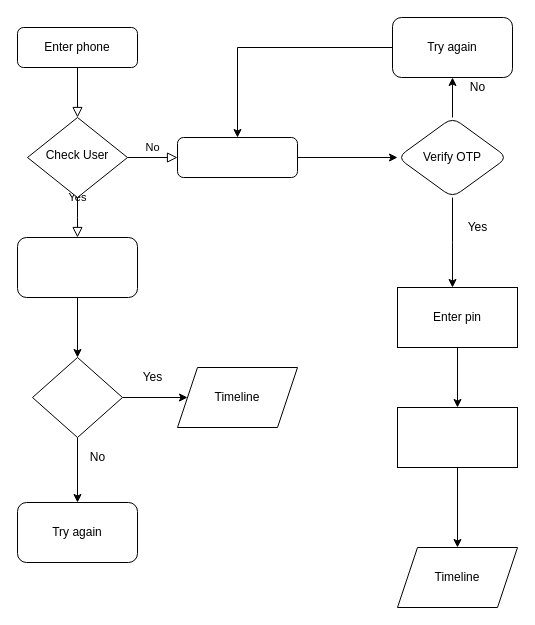
Image size: 535x625. Some labels were removed from this diagram. The centre of each missing label's shape, as x and y in pixels:
"Change User" belongs at point 457,437.
"Enter password" belongs at point 77,267.
"Login" belongs at point 77,397.
"Request OTP" belongs at point 237,157.
